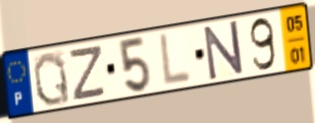5: (115, 33, 154, 95)
9: (247, 16, 278, 73)
L: (158, 30, 194, 89)
N: (201, 18, 246, 83)
Q: (31, 50, 72, 109)
Z: (69, 42, 108, 103)
